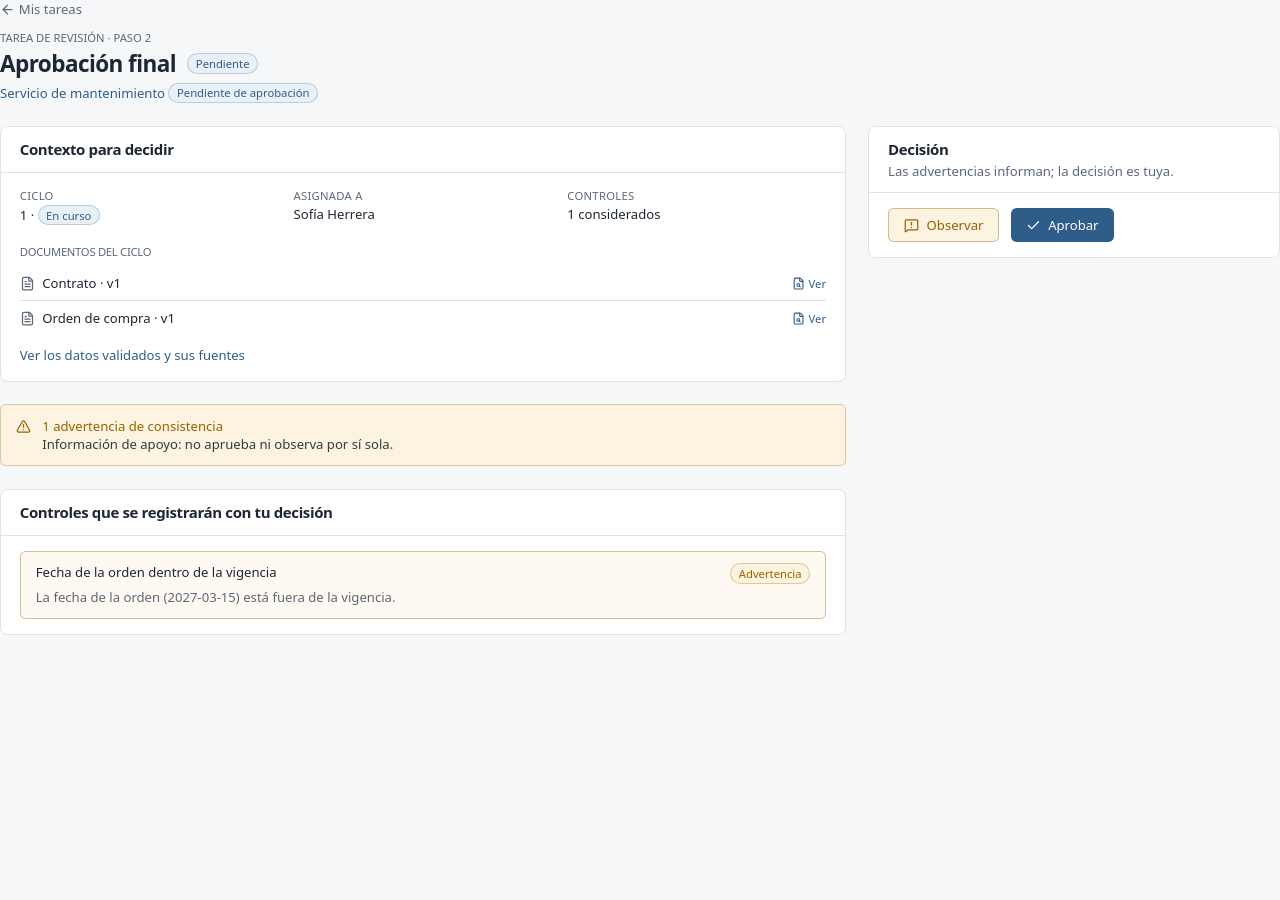
decisión del revisor (RF-20, RN-08, Fig. 3.8) › presenta la advertencia como apoyo y exige motivo para observar
Later steps or results of the test are not shown.
Expected: the text "1 advertencia de consistencia" is shown, left=42, top=417, right=223, bottom=435
Expected: the text "Información de apoyo: no aprueba ni observa por sí sola." is shown, left=42, top=435, right=393, bottom=453
Click the button "Observar".
click(944, 225)  # box left=888, top=208, right=999, bottom=242
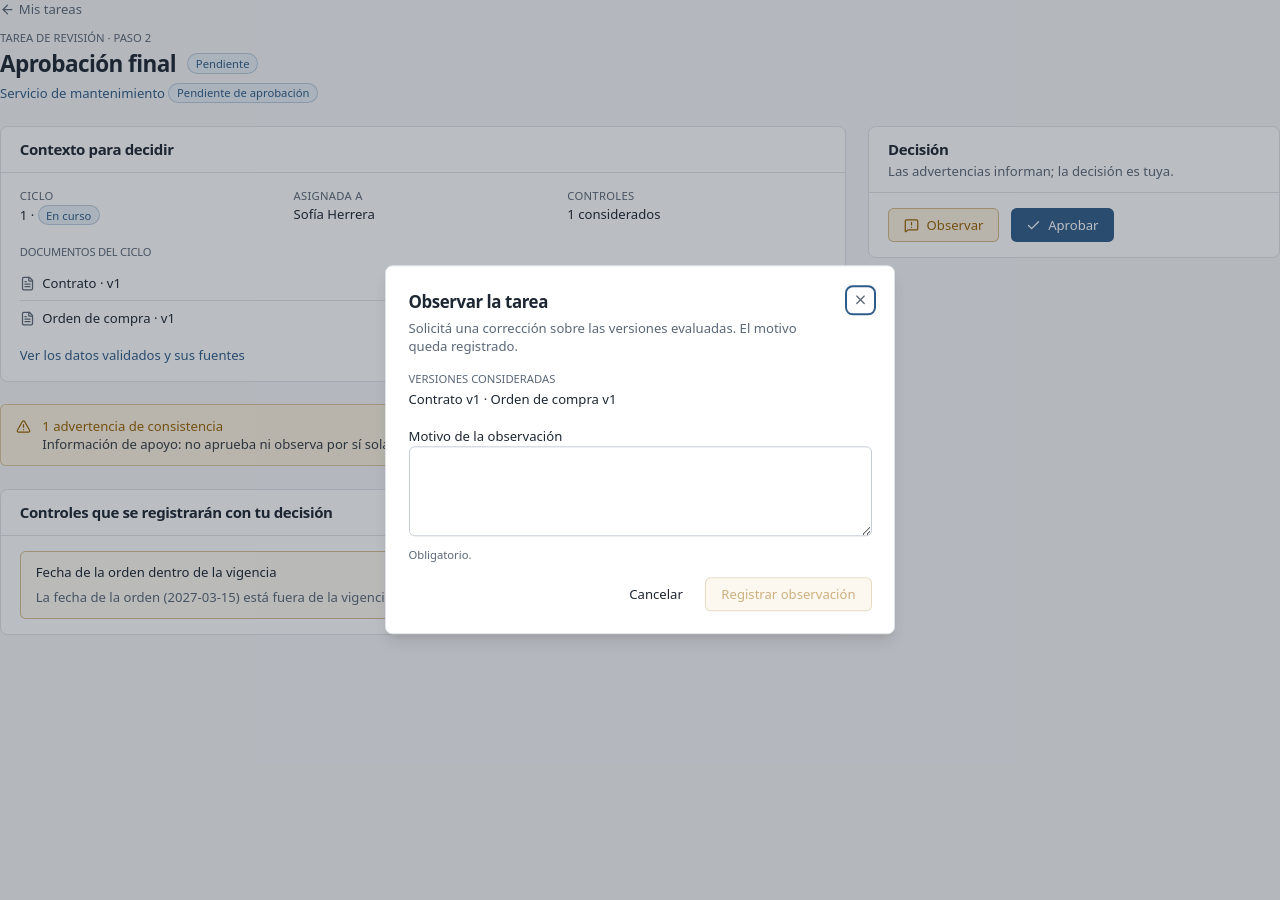
Expected: the button "Registrar observación" is disabled, left=705, top=577, right=872, bottom=611
Type "Corregir la fecha" into the text box labelled "Motivo de la observación".
click(640, 491); type("Corregir la fecha")  # box left=408, top=446, right=872, bottom=536
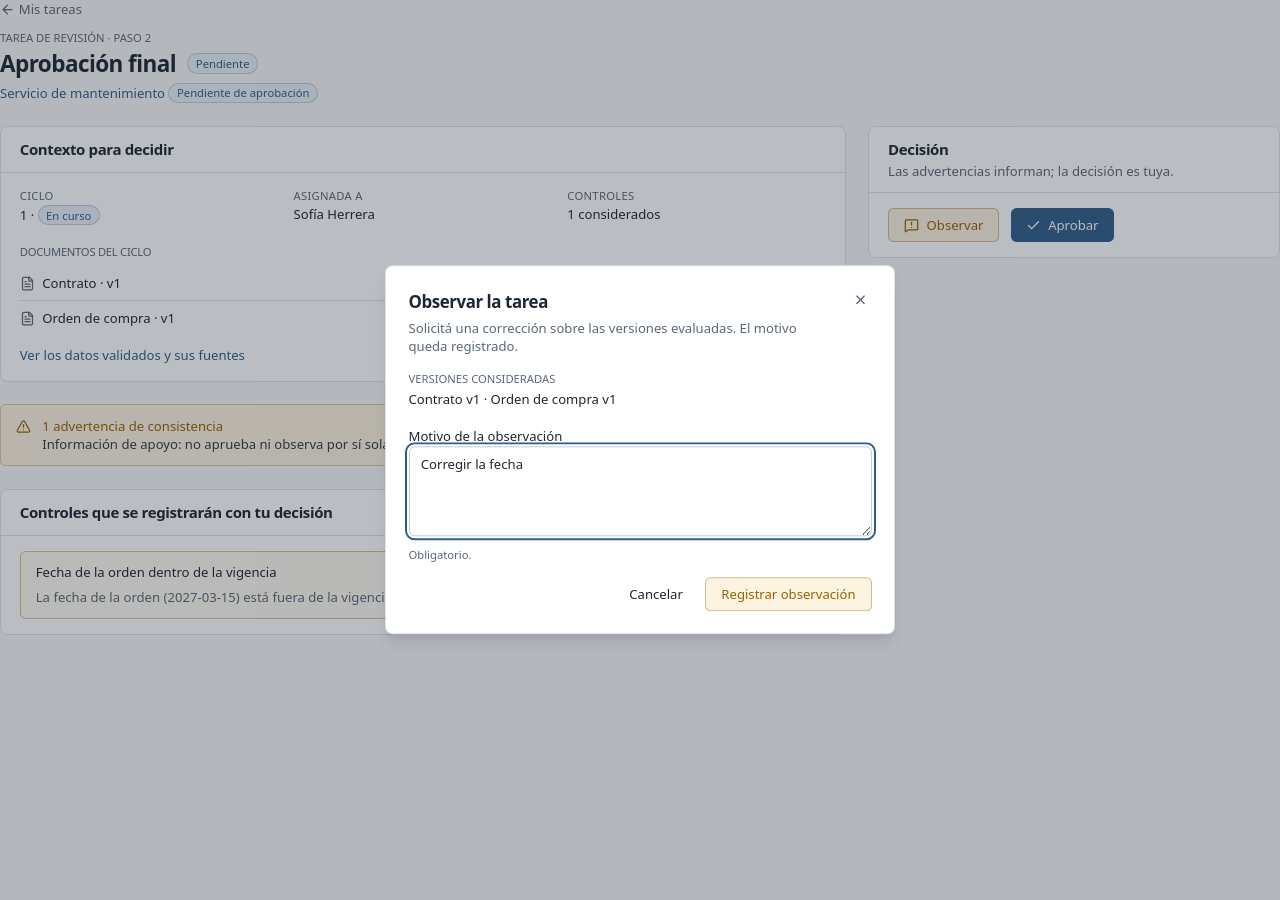
Expected: the button "Registrar observación" is enabled, left=705, top=577, right=872, bottom=611
